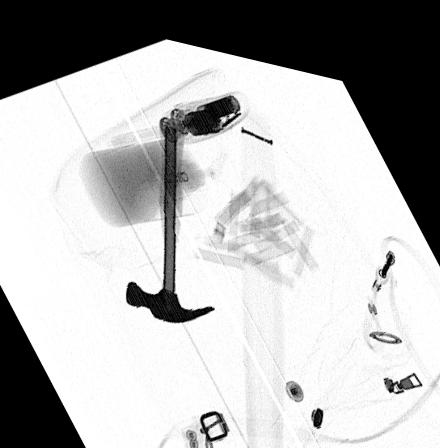Hammer: (124, 109, 215, 316)
